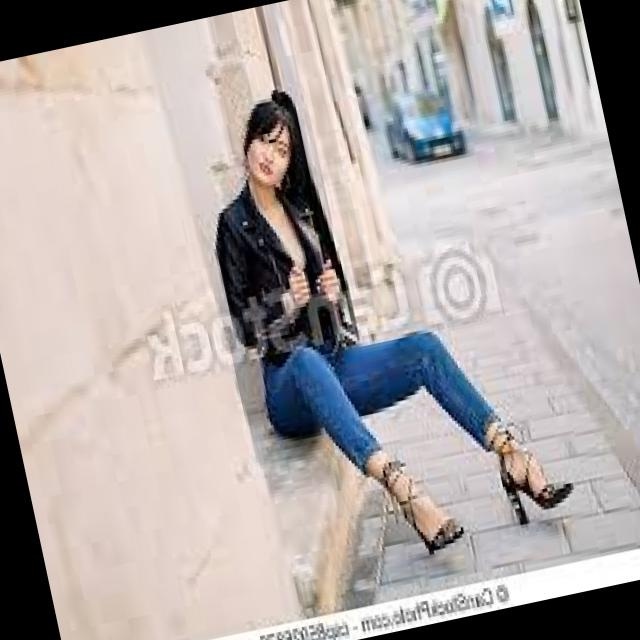Jacket: (193, 180, 361, 362)
